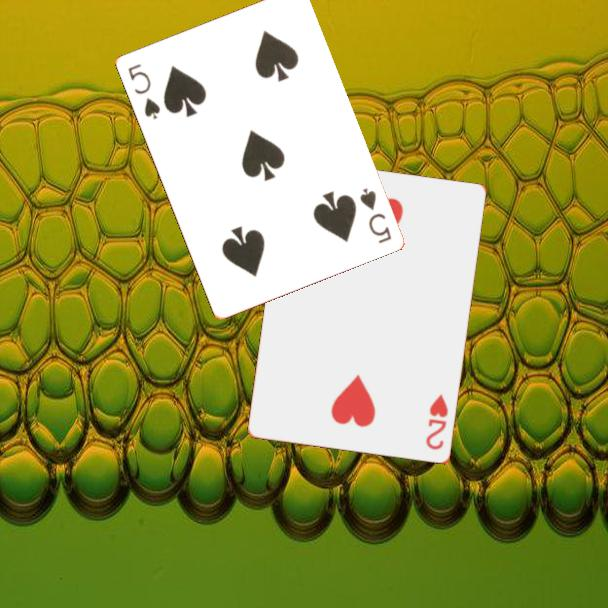h02: (422, 391, 451, 453)
s05: (124, 60, 163, 122), (356, 184, 394, 246)
